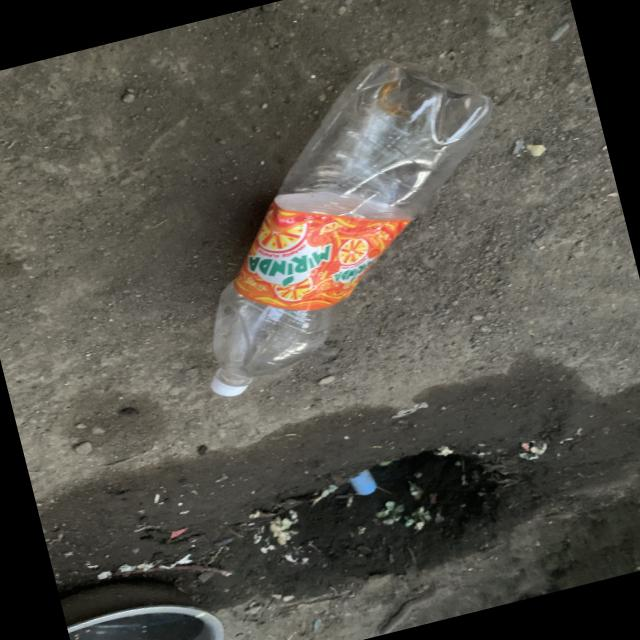Bottle: (210, 61, 491, 396)
